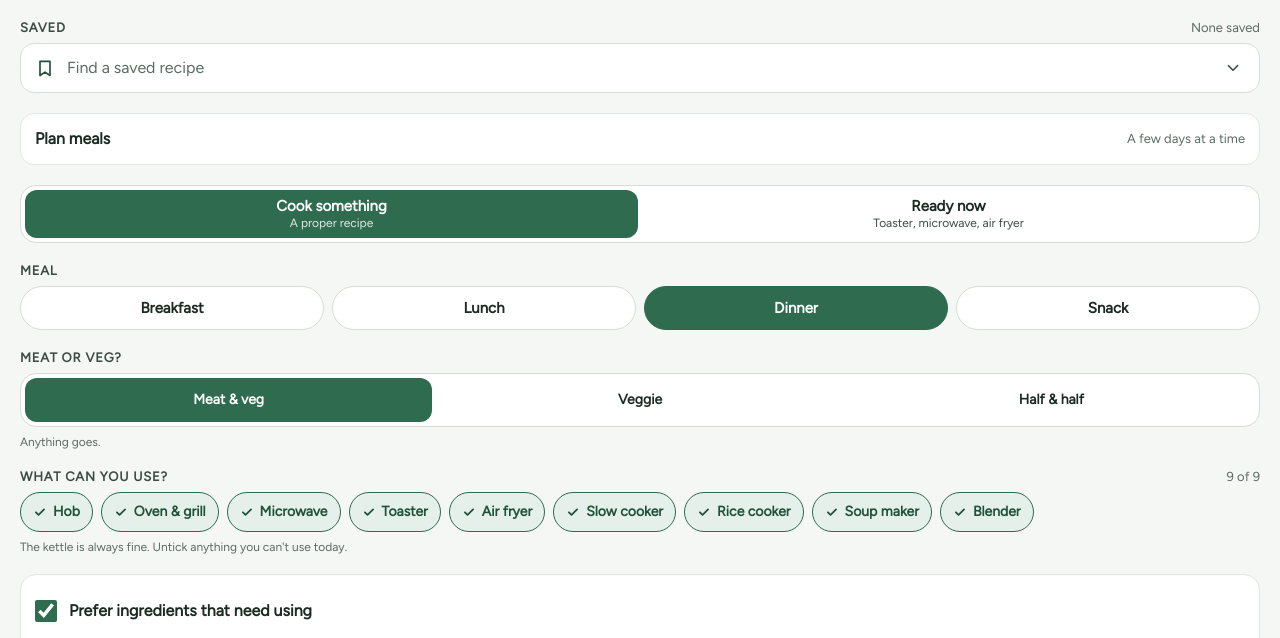
Ready now · Snack shows the ideas as drawn: minutes, appliance, how, uses with dots and links, the extra
Click the radio button labelled "Ready now Toaster, microwave, air fryer".
click(948, 214)  # box [642,190,1255,238]
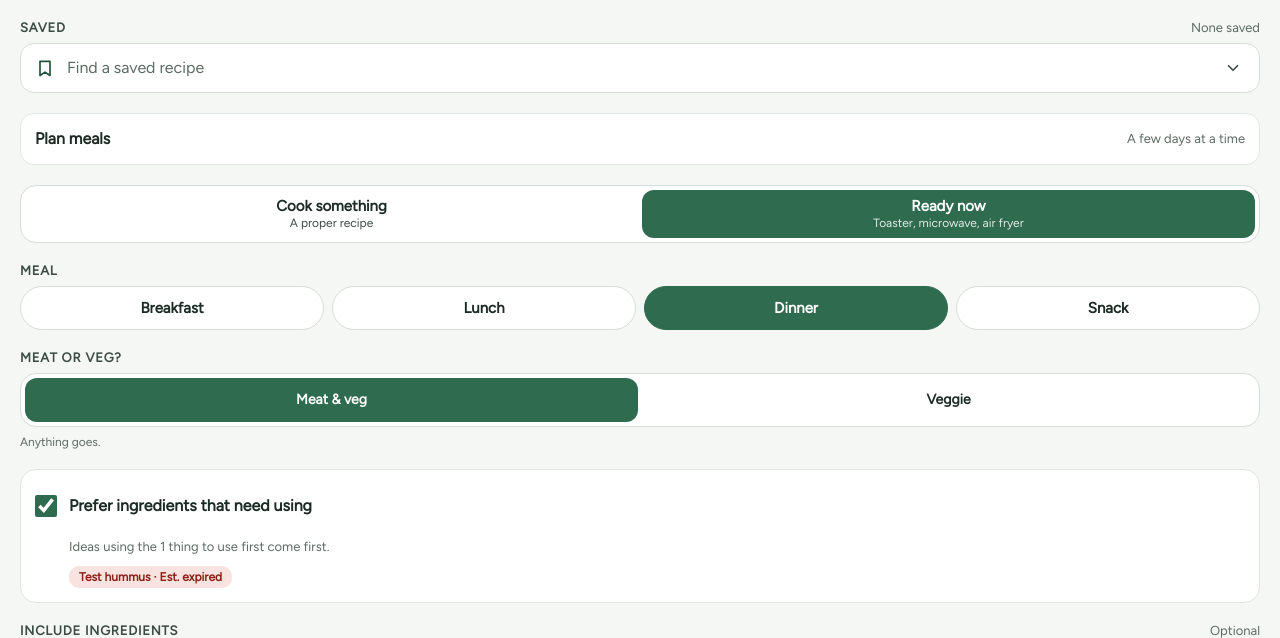
Click the radio button labelled "Snack".
click(1108, 308)  # box [956,286,1260,330]
(page scrolled)
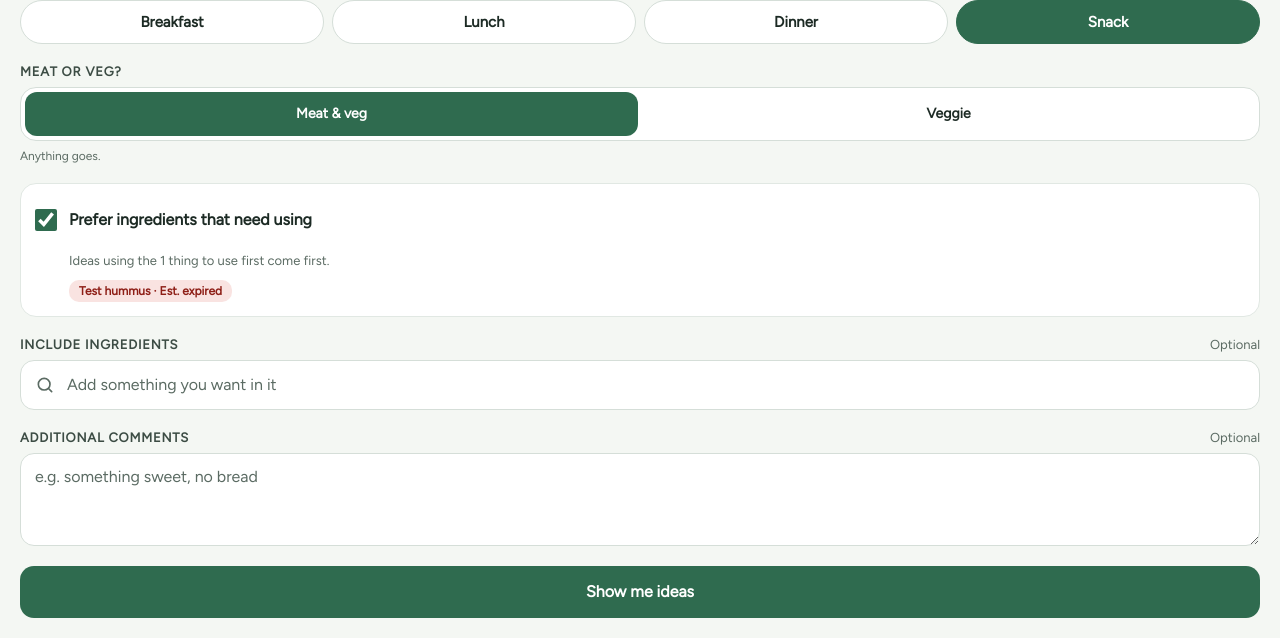
Click the button "Show me ideas".
click(640, 592)  # box [20,566,1260,618]
(page scrolled)
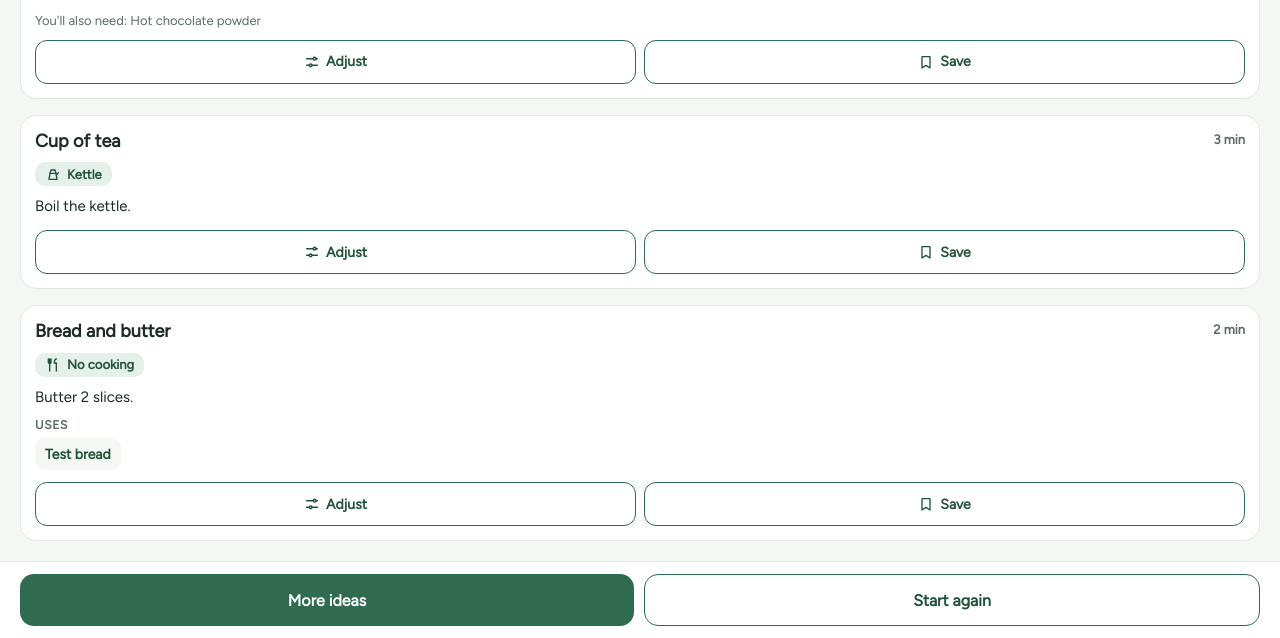
Expected: the element "Cup of tea" shows "Kettle", [67,167,102,182]
Expected: the element "Bread and butter" shows "No cooking", [67,357,134,372]
